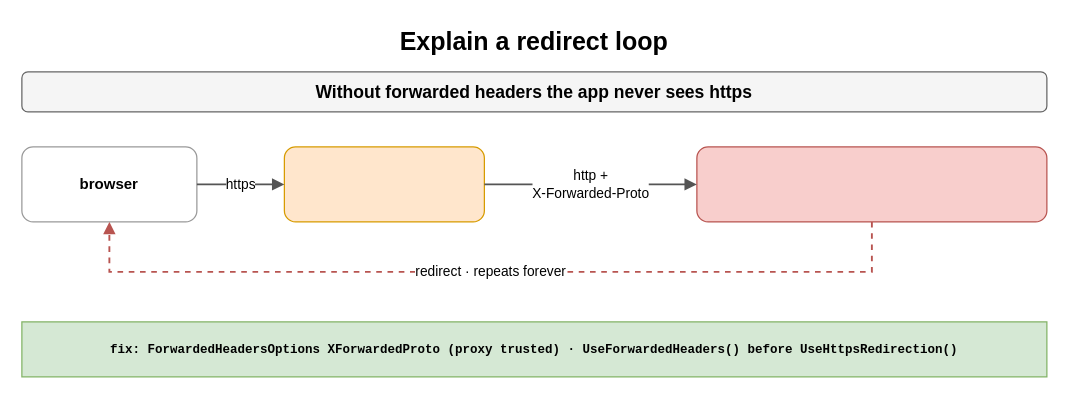
Image size: 1069x399. Some labels were removed from this diagram. Here are the shapes that lost their labels. From the top down, the box of each, then its label:
(283, 146, 484, 222): proxy terminates TLS
(696, 146, 1047, 222): app sees http UseHttpsRedirection → redirect to https
